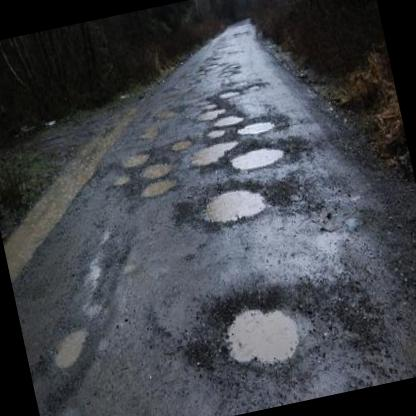pothole: (208, 281, 314, 375), (192, 176, 274, 230), (224, 136, 288, 174), (45, 324, 93, 368), (186, 135, 242, 169), (137, 174, 181, 200), (232, 113, 277, 138), (137, 159, 173, 181), (117, 147, 152, 168), (192, 103, 228, 121), (209, 111, 242, 128), (168, 136, 192, 150), (216, 85, 240, 99)
